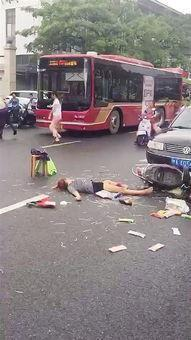Fall-Detected: (45, 166, 162, 205)
